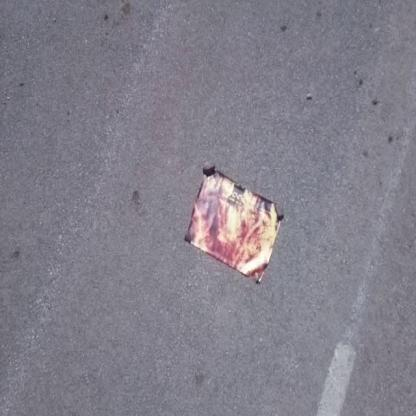fire-poster: (183, 162, 284, 285)
